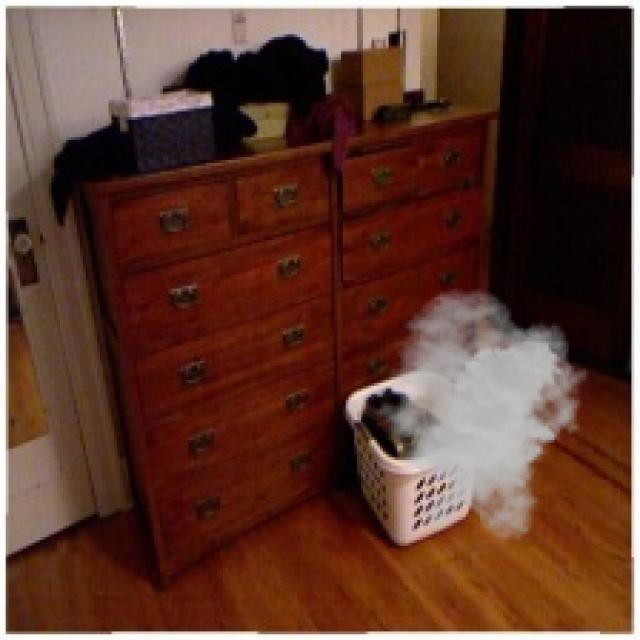Smoke: (362, 288, 588, 543)
